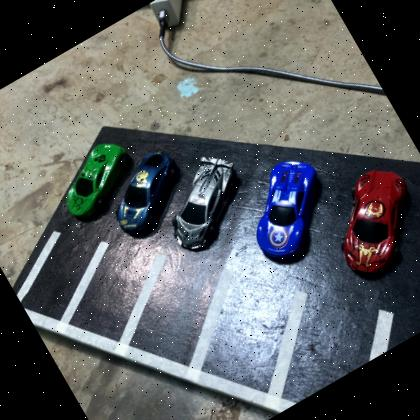Car: (228, 148, 346, 266), (313, 158, 420, 282), (146, 144, 262, 256), (94, 142, 196, 236), (48, 134, 144, 220)
